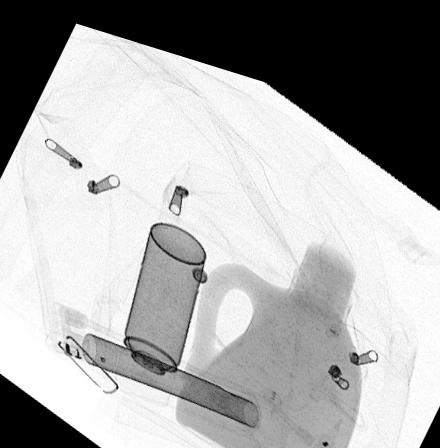Sprayer: (112, 211, 208, 398)
